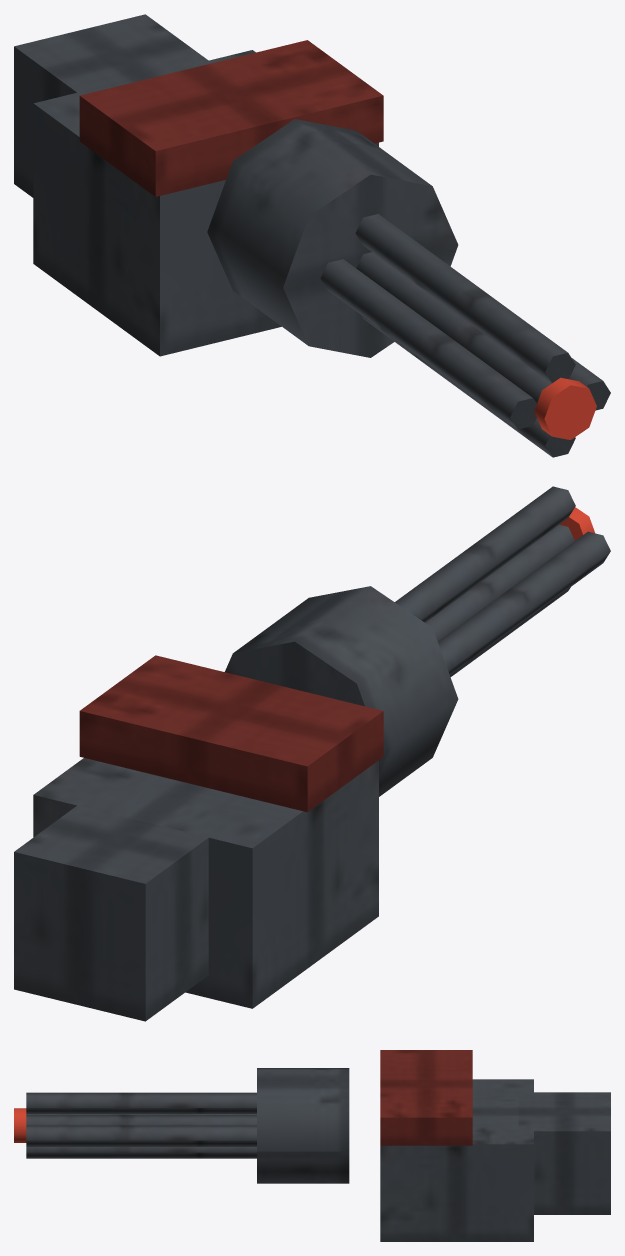
The picture shows the model from 3 angles, top to bottom: view 1: azimuth 30°, elevation 25°; view 2: azimuth 150°, elevation 25°; view 3: azimuth 270°, elevation 25°; orthographic projection. The views are drawn at different scales.
Visible parts, largest first — view 1: garde_weapon_vertibird_gun; view 2: garde_weapon_vertibird_gun; view 3: garde_weapon_vertibird_gun.
Part boxes in pixels (x1,y1,x2,y2): garde_weapon_vertibird_gun: [14, 14, 610, 457]; garde_weapon_vertibird_gun: [14, 486, 610, 1021]; garde_weapon_vertibird_gun: [14, 1050, 610, 1241].
Bounding box in the file's own units: 0.52 × 0.5 × 1.94.
3 materials, 3 textured.
